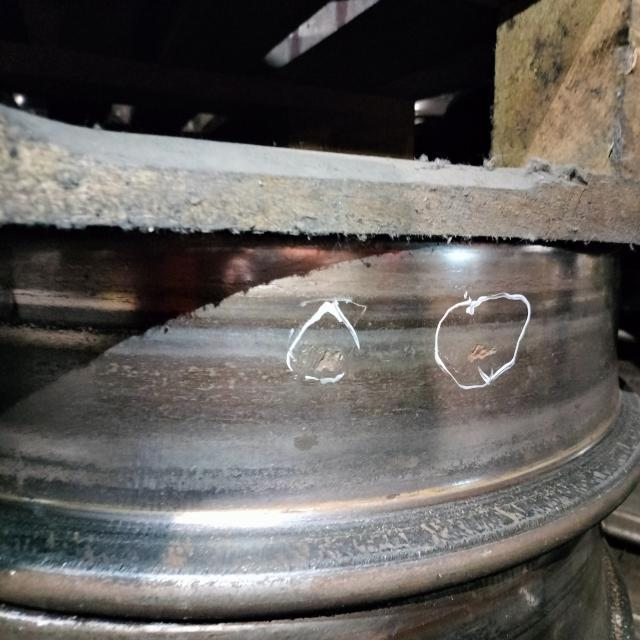Blue hole: (316, 350, 343, 373), (469, 344, 499, 363)
